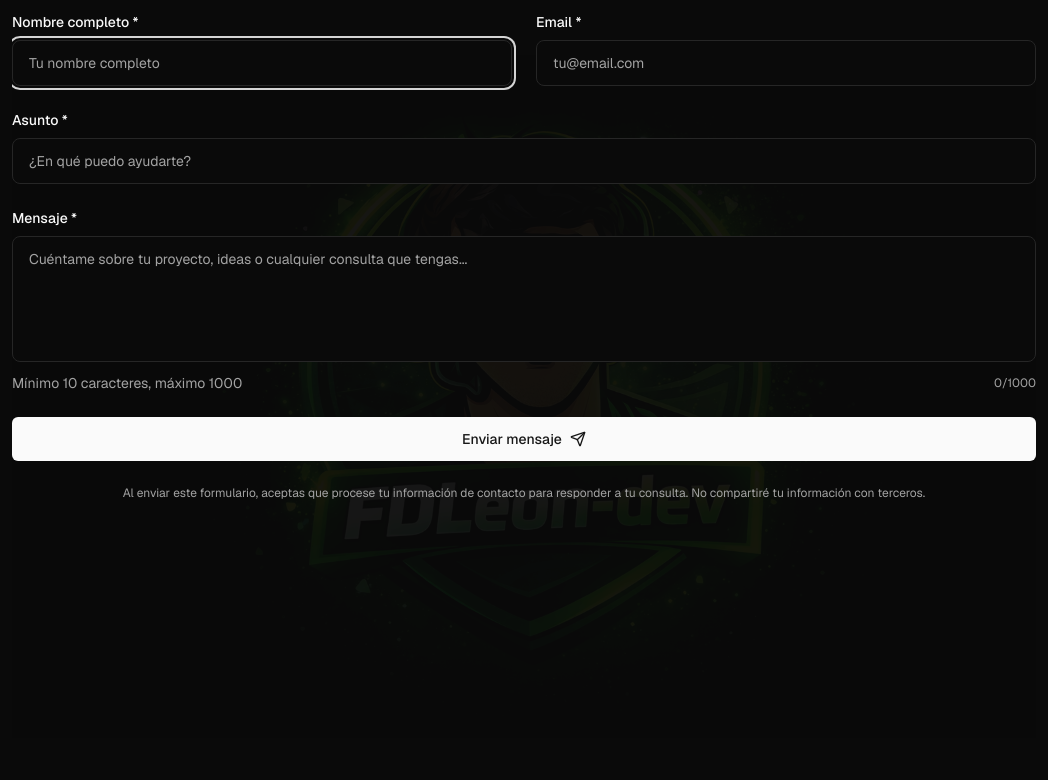
it: ContactForm › validates email format
This screenshot has width=1048, height=780.
Type "invalid-email" into the field labelled "Email *".
click(786, 63); type("invalid-email")  # box [536,40,1036,86]
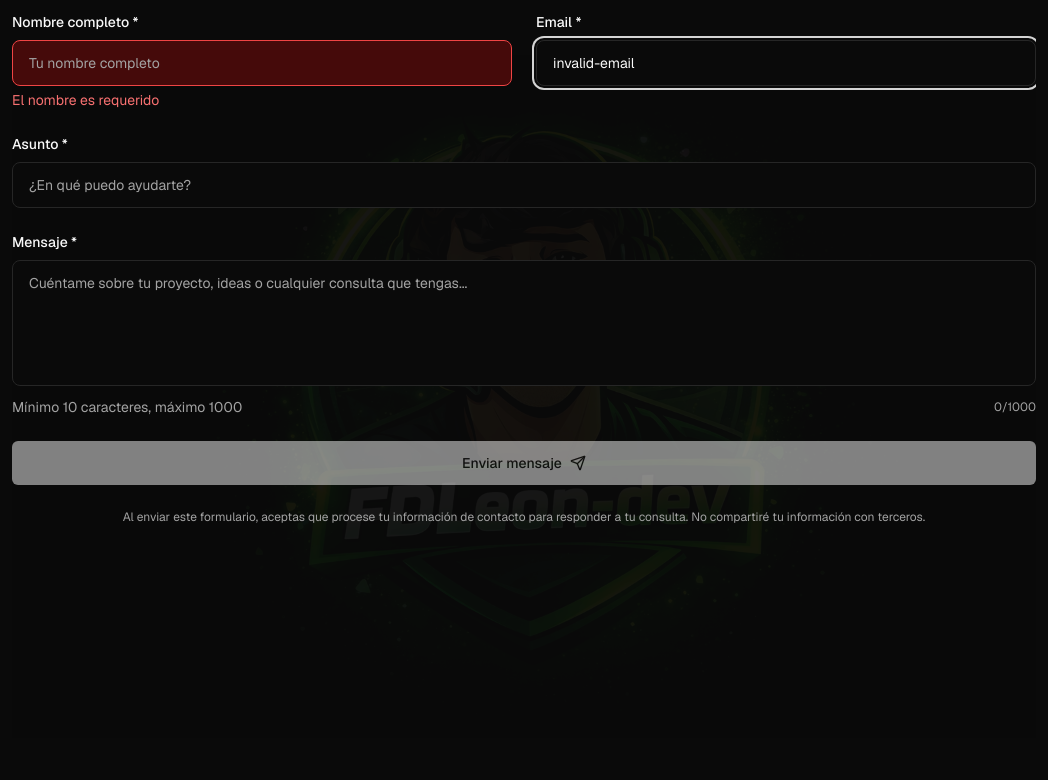
Leave the field labelled "Email *", box [536,40,1036,86]
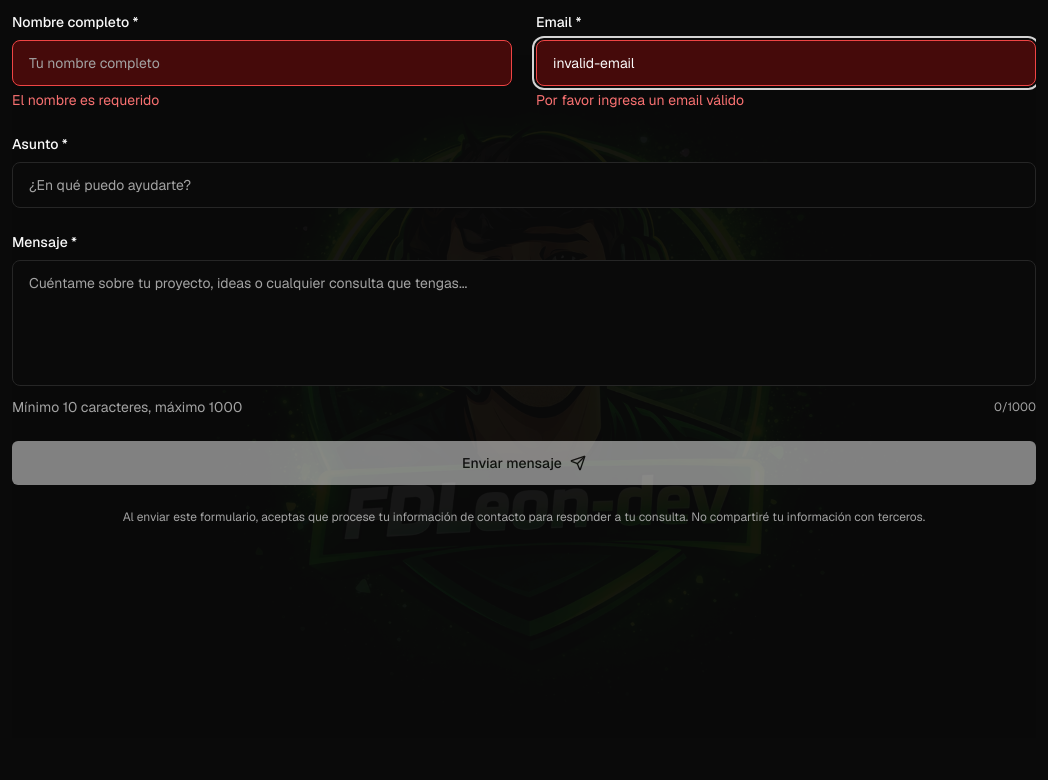
Check: the text "Por favor ingresa un email válido" is shown, box [536,91,744,109]
